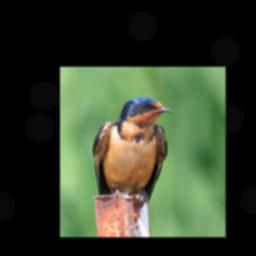Swallow: (92, 96, 173, 210)
